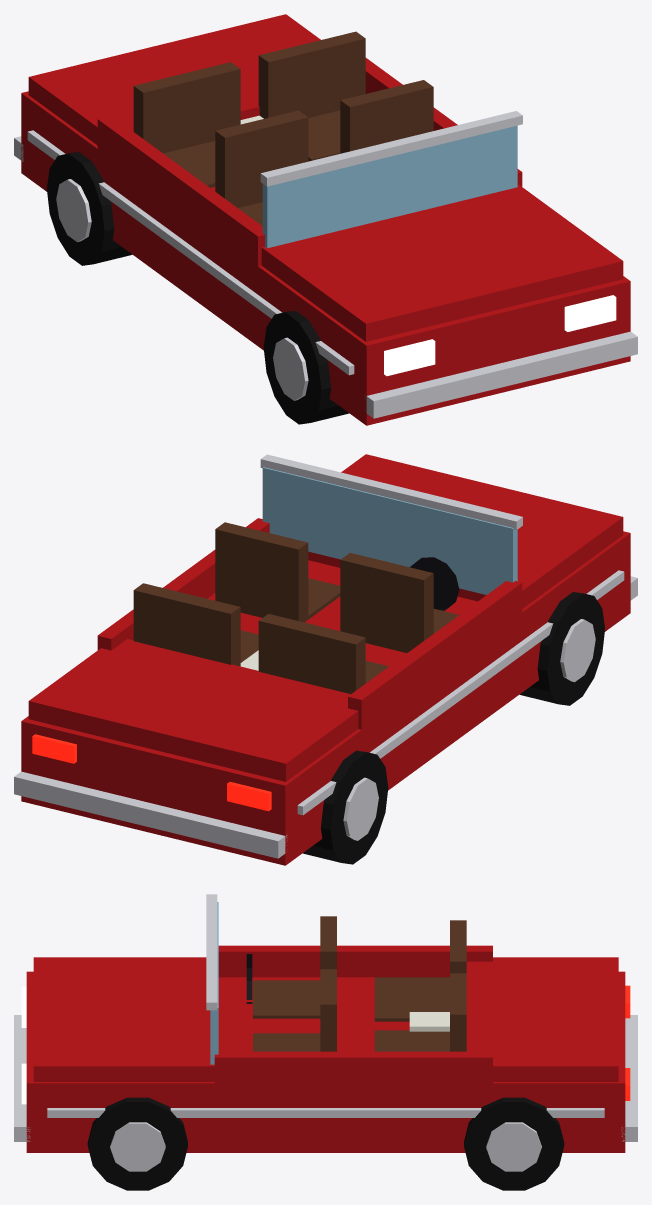
The model's file is convertible.glb.
The picture shows the model from 3 angles, top to bottom: view 1: azimuth 30°, elevation 25°; view 2: azimuth 150°, elevation 25°; view 3: azimuth 270°, elevation 25°; orthographic projection. The views are drawn at different scales.
Visible parts, largest first — view 1: convertible; view 2: convertible; view 3: convertible.
Part boxes in pixels (<box>): convertible: <box>14,14,637,425</box>; convertible: <box>14,454,637,865</box>; convertible: <box>14,894,637,1190</box>.
Bounding box in the file's own units: 2.09 × 1.44 × 4.48.
